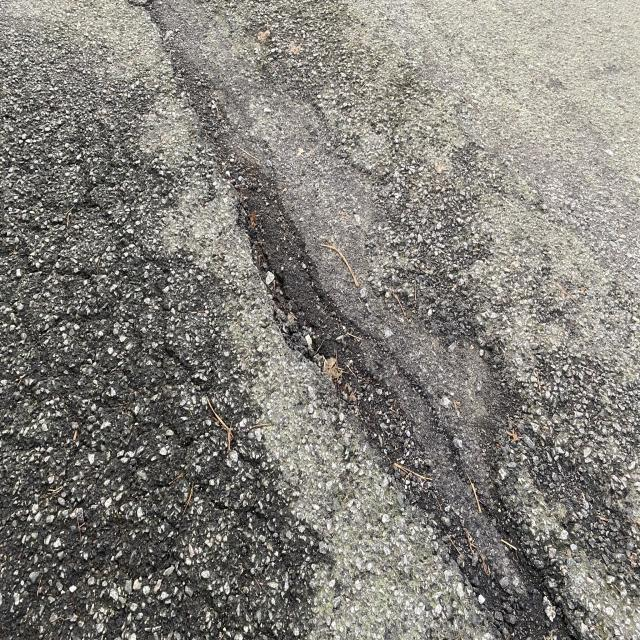pothole: (200, 131, 426, 487)
